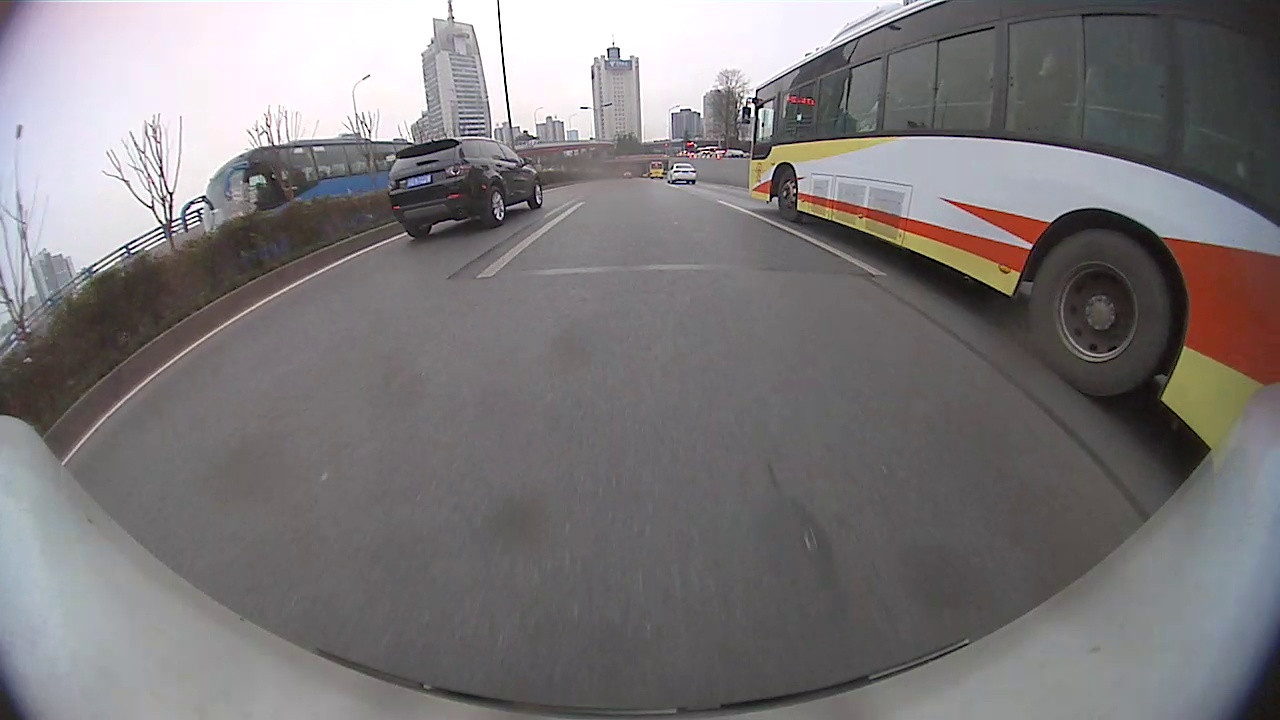bus: (740, 1, 1279, 450), (178, 131, 418, 252)
car: (385, 133, 545, 241), (664, 160, 699, 185)
front: (776, 175, 802, 222), (531, 182, 546, 211)
rear: (1030, 228, 1171, 403), (487, 190, 507, 224)
